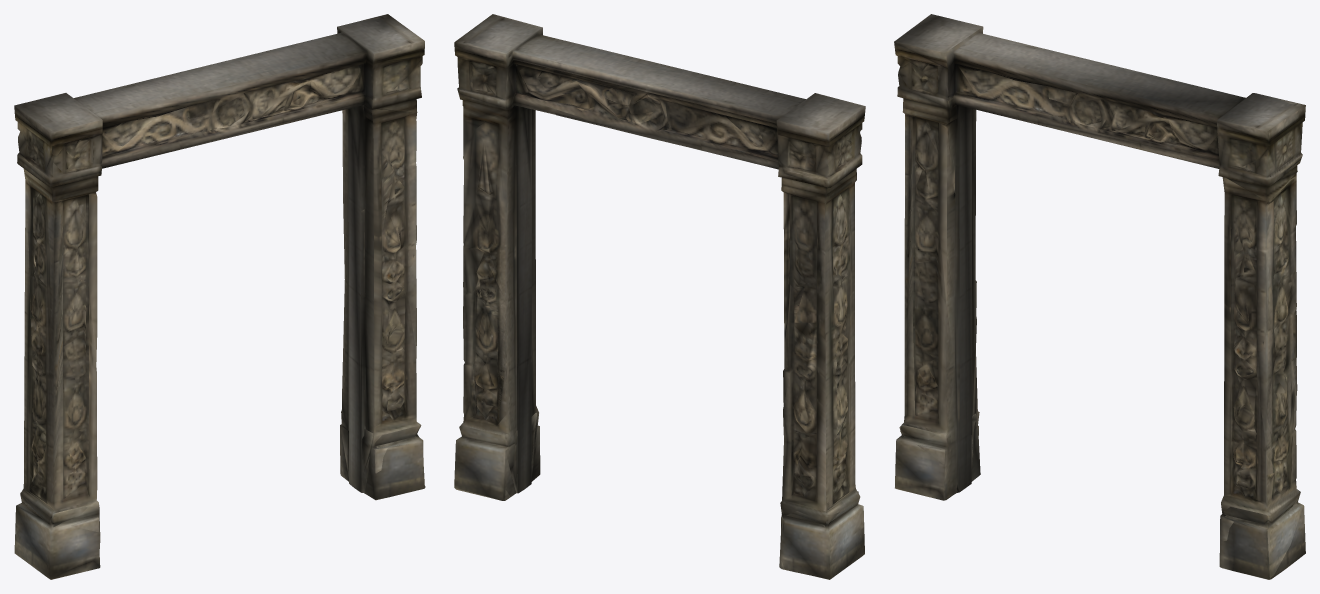
3 views of the same model, side by side, from view 1: azimuth 30°, elevation 25°; view 2: azimuth 150°, elevation 25°; view 3: azimuth 330°, elevation 25° (orthographic).
Parts seen in each view (by area): view 1: convert; view 2: convert; view 3: convert.
Part boxes in pixels (x1=…): convert: x1=14, y1=14, x2=425, y2=579; convert: x1=454, y1=14, x2=865, y2=579; convert: x1=894, y1=14, x2=1305, y2=579.
Bounding box in the file's own units: 0.7877 × 0.8979 × 0.137.
Materials: 1 (1 with a texture image).
